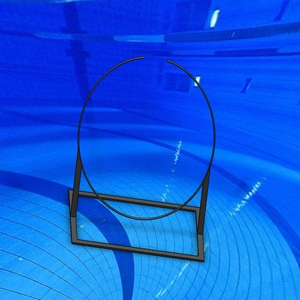circle: (68, 55, 216, 264)
